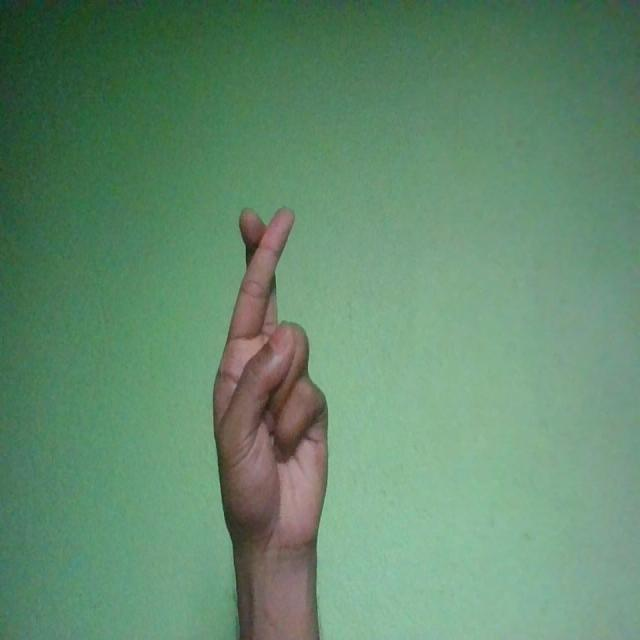Ok: (212, 203, 330, 562)
